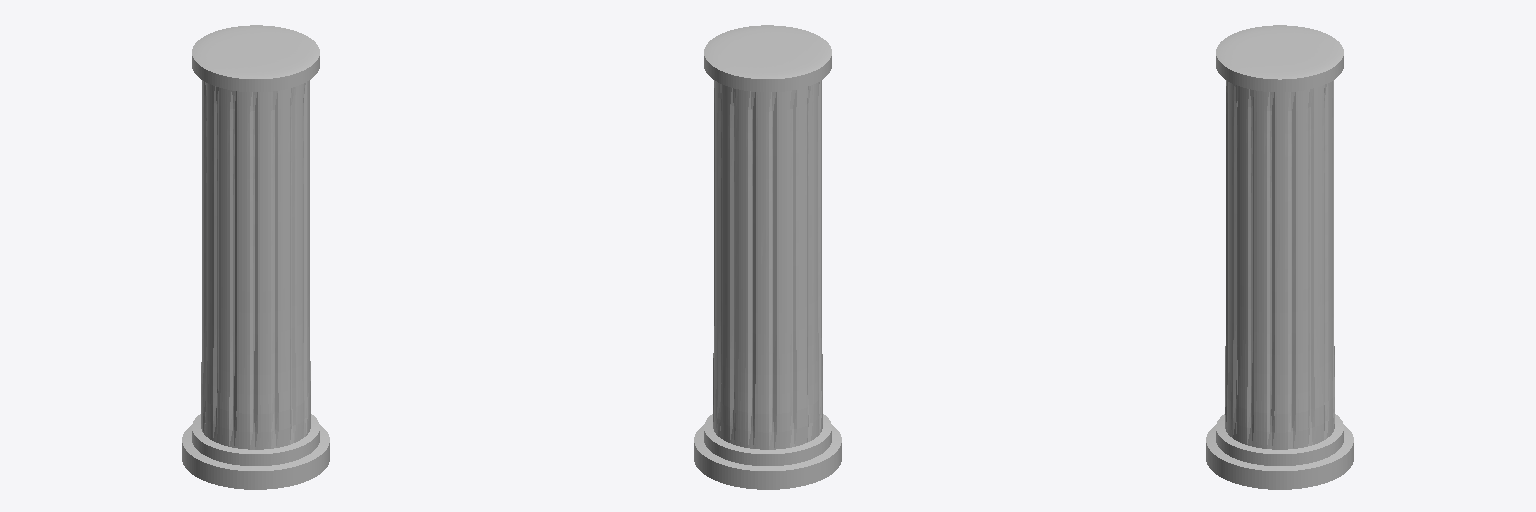
The model's file is Column_HP_OBJ.OBJ.
The picture shows the model from 3 angles: view 1: azimuth 30°, elevation 25°; view 2: azimuth 150°, elevation 25°; view 3: azimuth 270°, elevation 25°; orthographic projection.
Visible parts, largest first — view 1: Group30, Group20, Group35, Group10, Group25, Group45, Group50; view 2: Group30, Group20, Group35, Group10, Group25, Group45, Group50; view 3: Group30, Group20, Group35, Group10, Group25, Group45, Group50.
Part boxes in pixels (bbox=[...]): Group30: bbox=[201, 80, 310, 432]; Group20: bbox=[192, 25, 319, 78]; Group35: bbox=[192, 413, 319, 453]; Group10: bbox=[182, 443, 329, 489]; Group25: bbox=[192, 56, 319, 91]; Group45: bbox=[192, 431, 319, 465]; Group50: bbox=[182, 425, 329, 470]; Group30: bbox=[713, 80, 822, 432]; Group20: bbox=[704, 25, 831, 78]; Group35: bbox=[704, 410, 831, 453]; Group10: bbox=[694, 443, 841, 489]; Group25: bbox=[704, 56, 831, 91]; Group45: bbox=[704, 431, 831, 465]; Group50: bbox=[694, 425, 841, 470]; Group30: bbox=[1225, 80, 1334, 432]; Group20: bbox=[1216, 25, 1343, 79]; Group35: bbox=[1216, 412, 1343, 453]; Group10: bbox=[1206, 443, 1353, 489]; Group25: bbox=[1216, 56, 1343, 92]; Group45: bbox=[1216, 431, 1343, 465]; Group50: bbox=[1206, 425, 1353, 470].
Bounding box in the file's own units: 147 × 450 × 147.